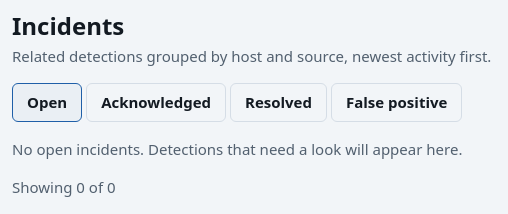
it: Incidents › lists incidents with a clear empty state per tab
Check: the text "No open incidents" is shown, box [12,139,462,159]
Click the tab "Resolved": (278, 103) [230,83,327,122]
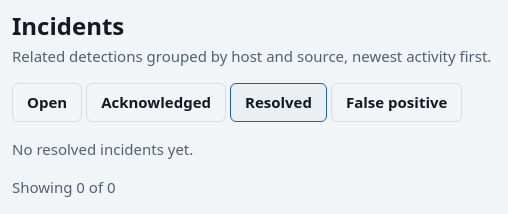
Check: the text "No resolved incidents yet." is shown, box [12,139,193,159]
